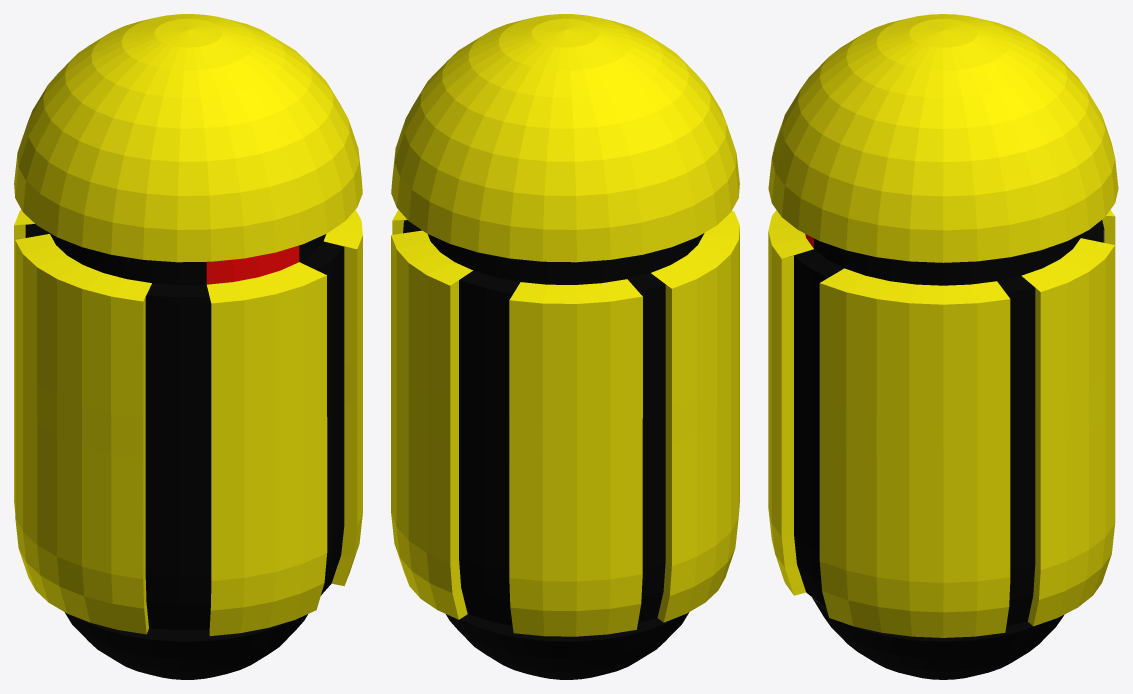
Rendered from MeleeT3.glb.
The picture shows the model from 3 angles, left to right: view 1: azimuth 30°, elevation 25°; view 2: azimuth 150°, elevation 25°; view 3: azimuth 270°, elevation 25°; orthographic projection.
Parts seen in each view (by area): view 1: Body; view 2: Body; view 3: Body.
Part boxes in pixels (x1,y1,x2,y2): Body: (14, 14, 362, 679); Body: (391, 14, 739, 679); Body: (768, 14, 1118, 679).
Size of the model in its own units: 1 by 2.01 by 1.
